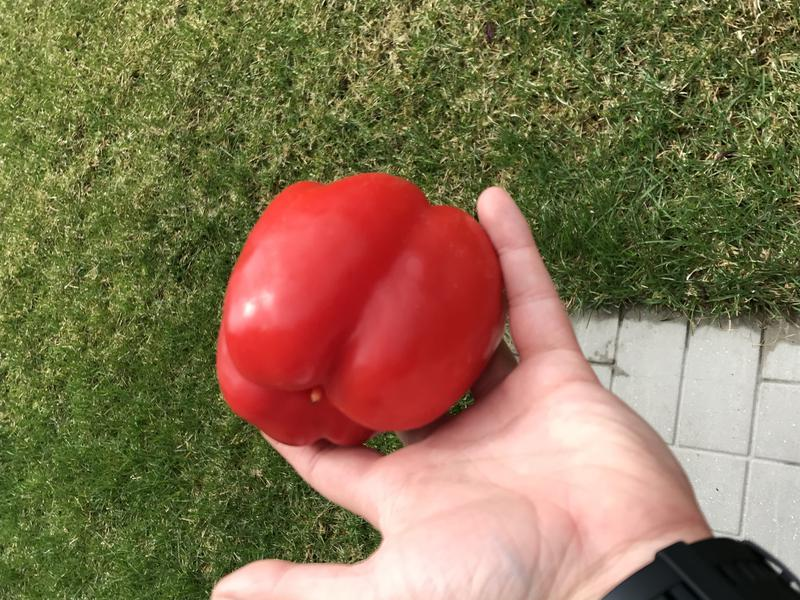red_pepper: (197, 163, 525, 465)
